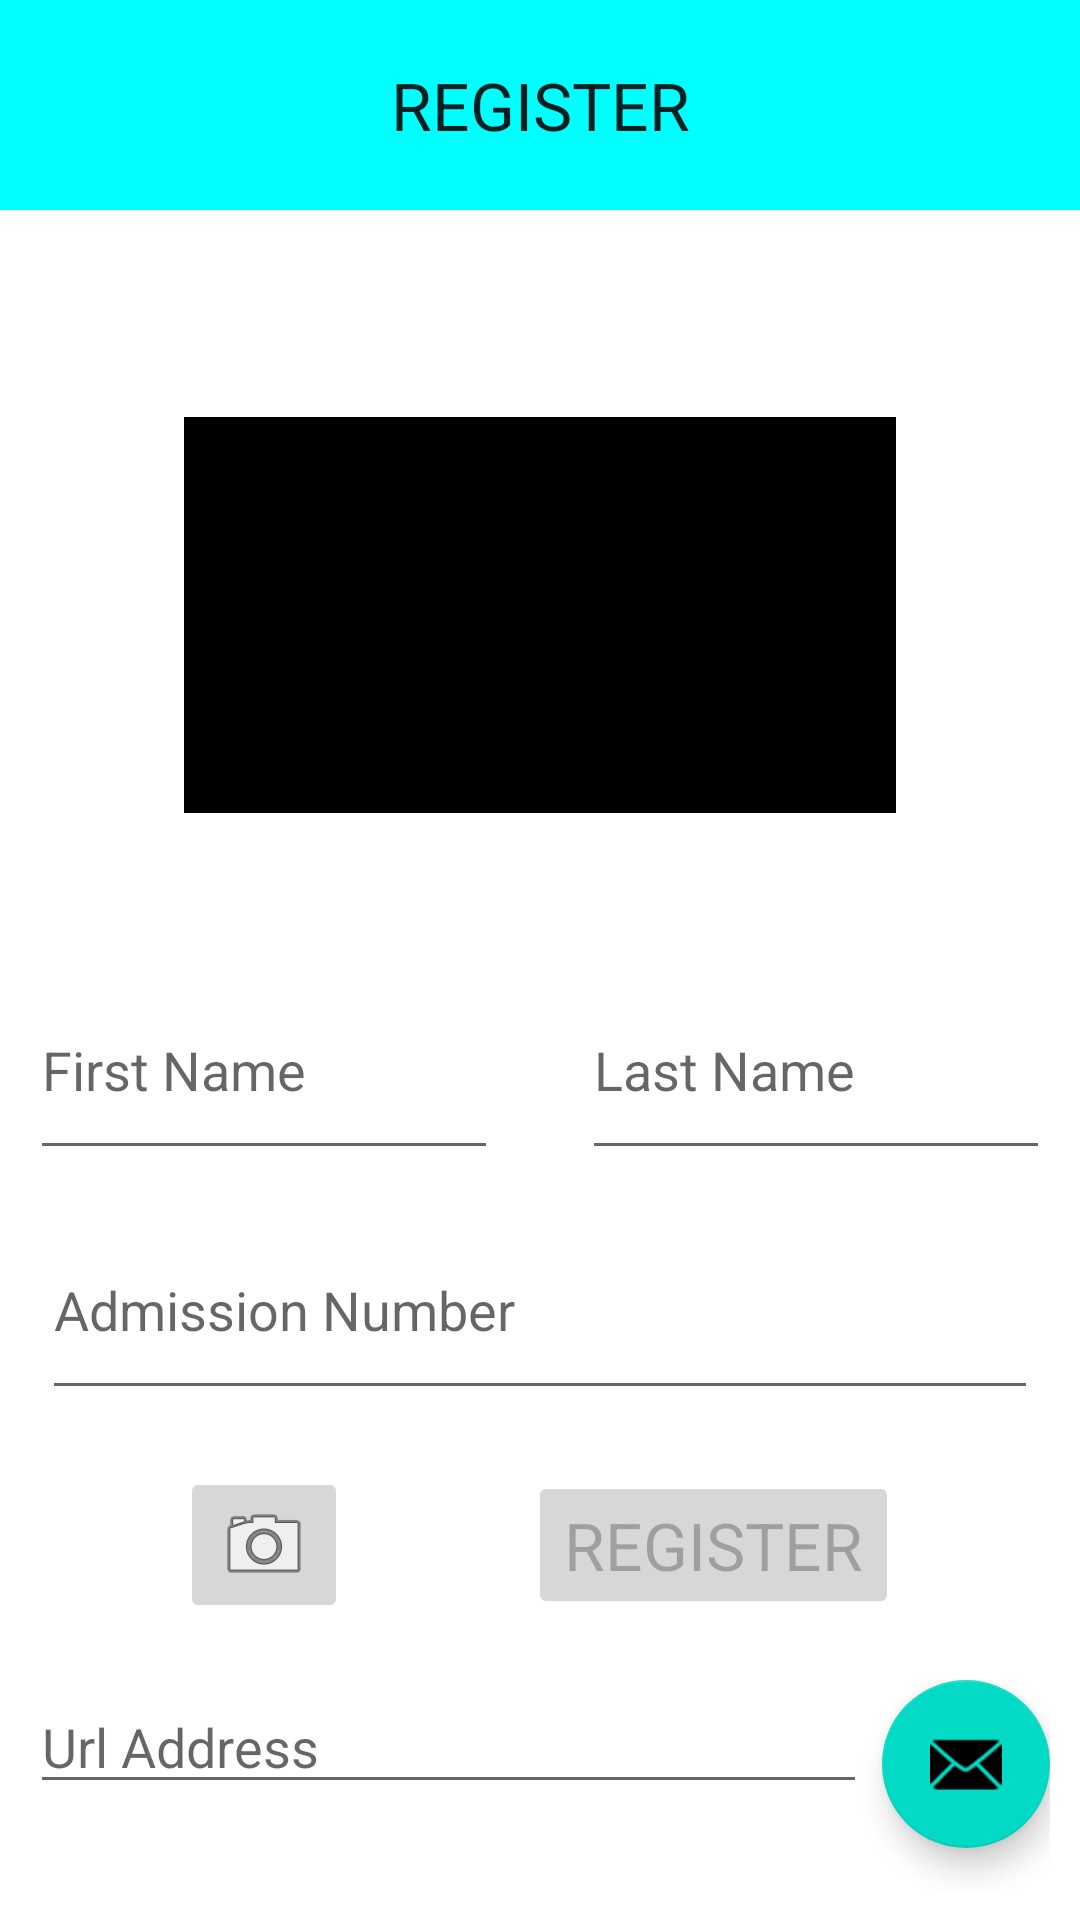

Where to tap for icons on this 1080 x 1920 app screen, as [x,y]:
Button to take picture for registration: [264,1545]
email: [966,1764]
